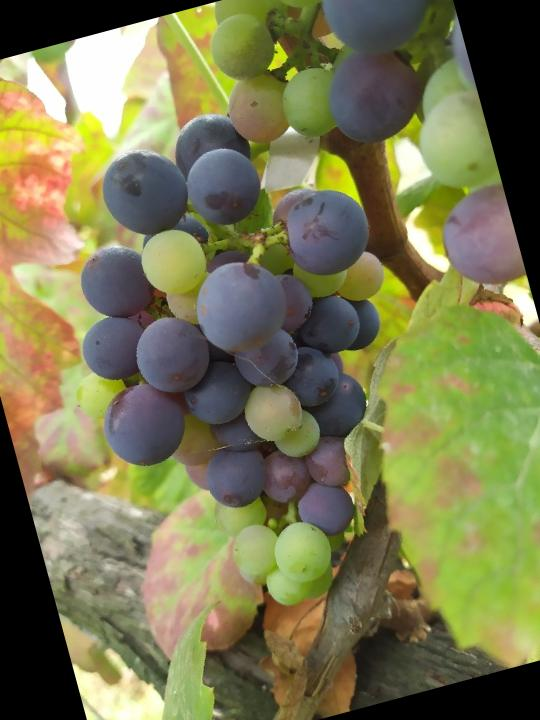grape: (26, 76, 469, 645)
